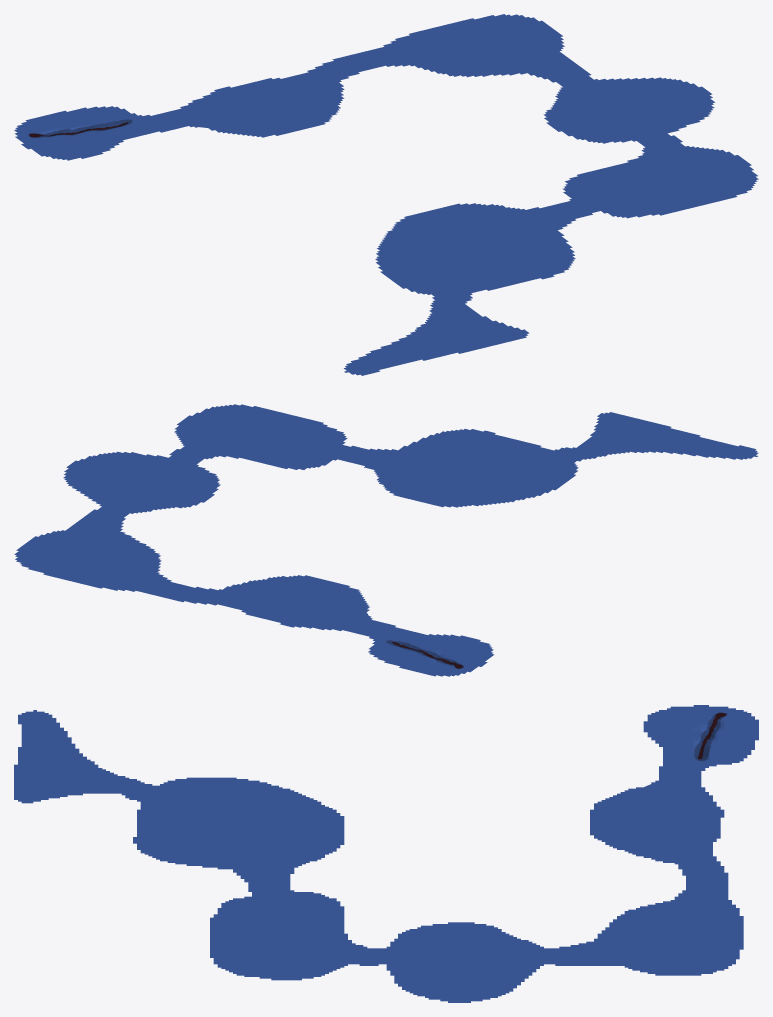
File: ground.fbx
The picture shows the model from 3 angles, top to bottom: view 1: azimuth 30°, elevation 25°; view 2: azimuth 150°, elevation 25°; view 3: azimuth 270°, elevation 25°; orthographic projection. The views are drawn at different scales.
Visible parts, largest first — view 1: ground; view 2: ground; view 3: ground.
Boxes of the visible parts, x1,y1,x2,y2 form: ground: (14,14,758,375); ground: (14,404,758,676); ground: (14,705,758,1002).
Size of the model in its own units: 92142 by 459 by 97401.
